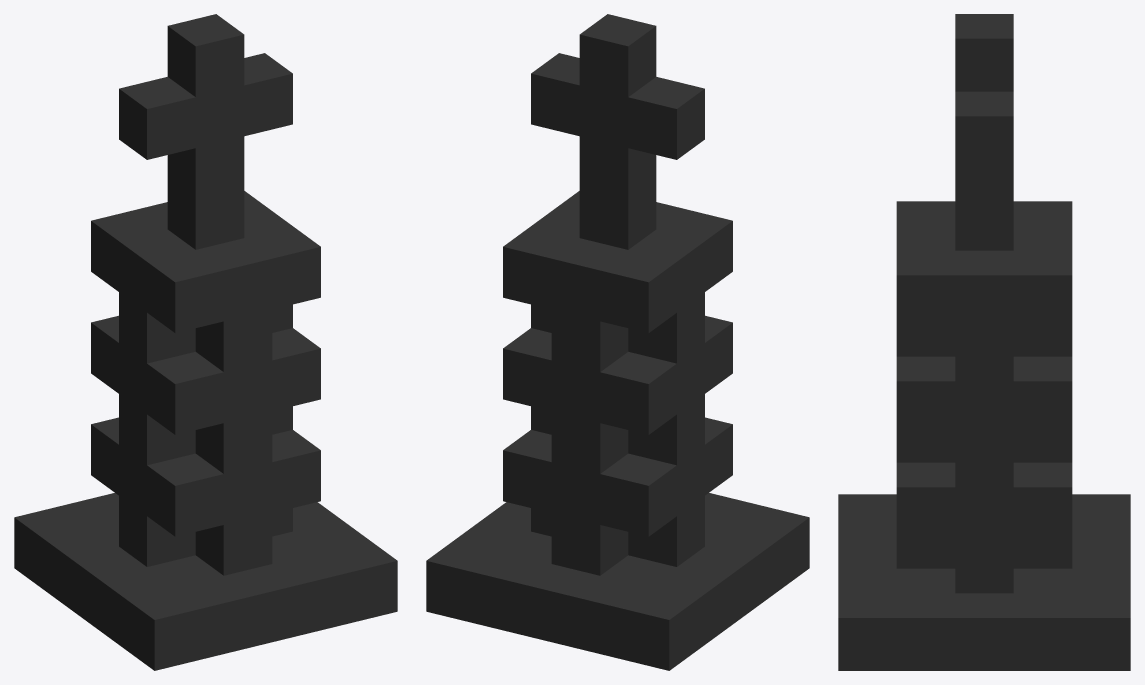
File: queen-w.glb
The picture shows the model from 3 angles, left to right: view 1: azimuth 30°, elevation 25°; view 2: azimuth 150°, elevation 25°; view 3: azimuth 270°, elevation 25°; orthographic projection. The views are drawn at different scales.
Parts seen in each view (by area): view 1: root; view 2: root; view 3: root.
Boxes of the visible parts, x1,y1,x2,y2 form: root: [14, 14, 397, 670]; root: [426, 14, 809, 670]; root: [838, 14, 1130, 670].
Size of the model in its own units: 0.7143 by 1.57 by 0.7143.
1 material, 1 textured.
